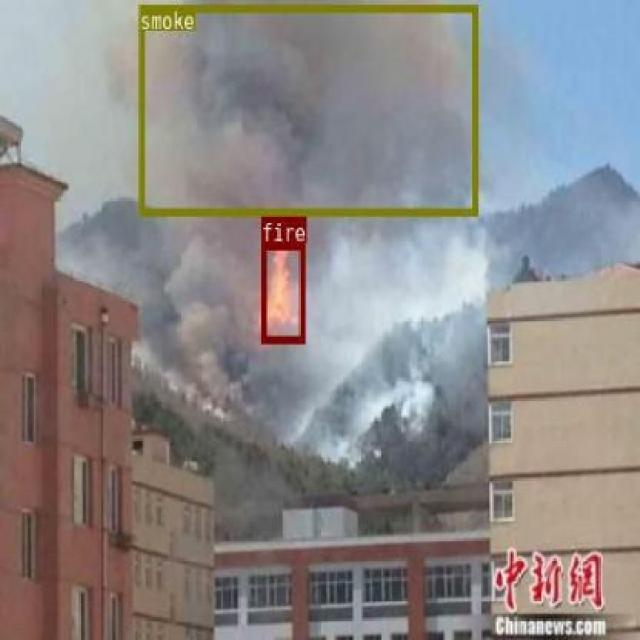fire: (259, 242, 304, 342)
smoke: (138, 3, 476, 214)
